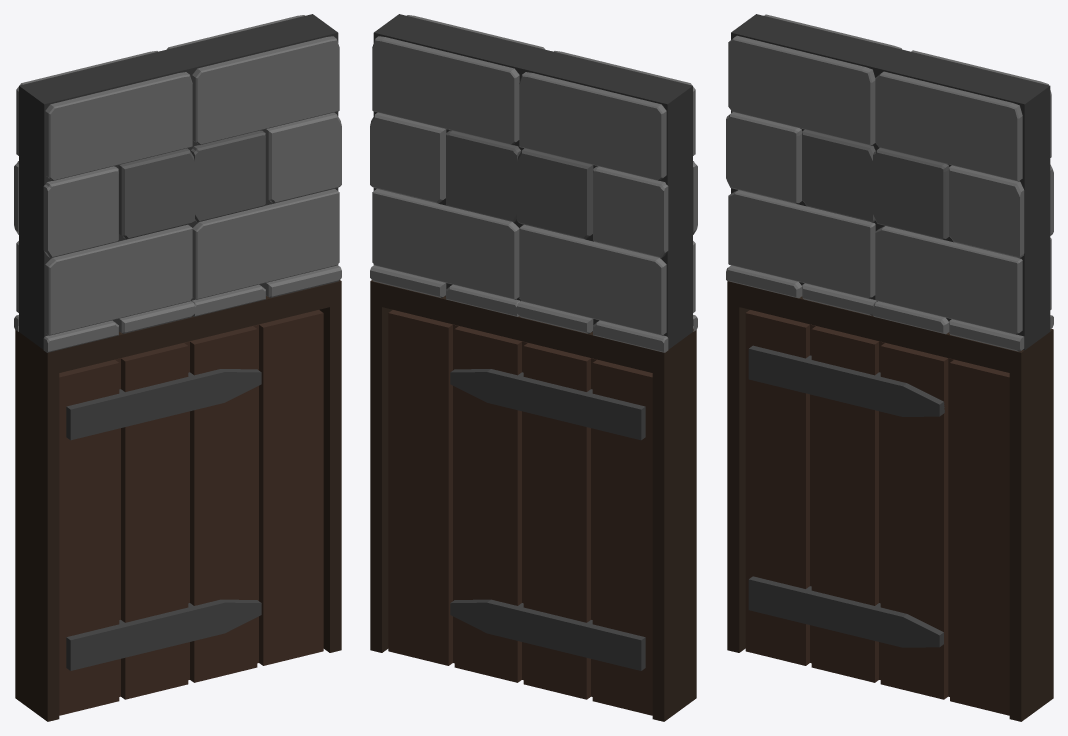
Rendered from LevelInnerDoorPiece.glb.
3 views of the same model, side by side, from view 1: azimuth 30°, elevation 25°; view 2: azimuth 150°, elevation 25°; view 3: azimuth 330°, elevation 25° (orthographic).
Parts seen in each view (by area): view 1: LevelInnerDoorPiece, LevelInnerDoor; view 2: LevelInnerDoorPiece, LevelInnerDoor; view 3: LevelInnerDoorPiece, LevelInnerDoor.
Boxes of the visible parts, box(x1,y1,x2,y2) form: LevelInnerDoorPiece: box(14, 14, 341, 721); LevelInnerDoor: box(59, 310, 323, 715); LevelInnerDoorPiece: box(370, 14, 697, 721); LevelInnerDoor: box(388, 310, 652, 715); LevelInnerDoorPiece: box(726, 14, 1053, 721); LevelInnerDoor: box(745, 310, 1009, 715).
Bounding box in the file's own units: 2 × 4 × 0.4.
